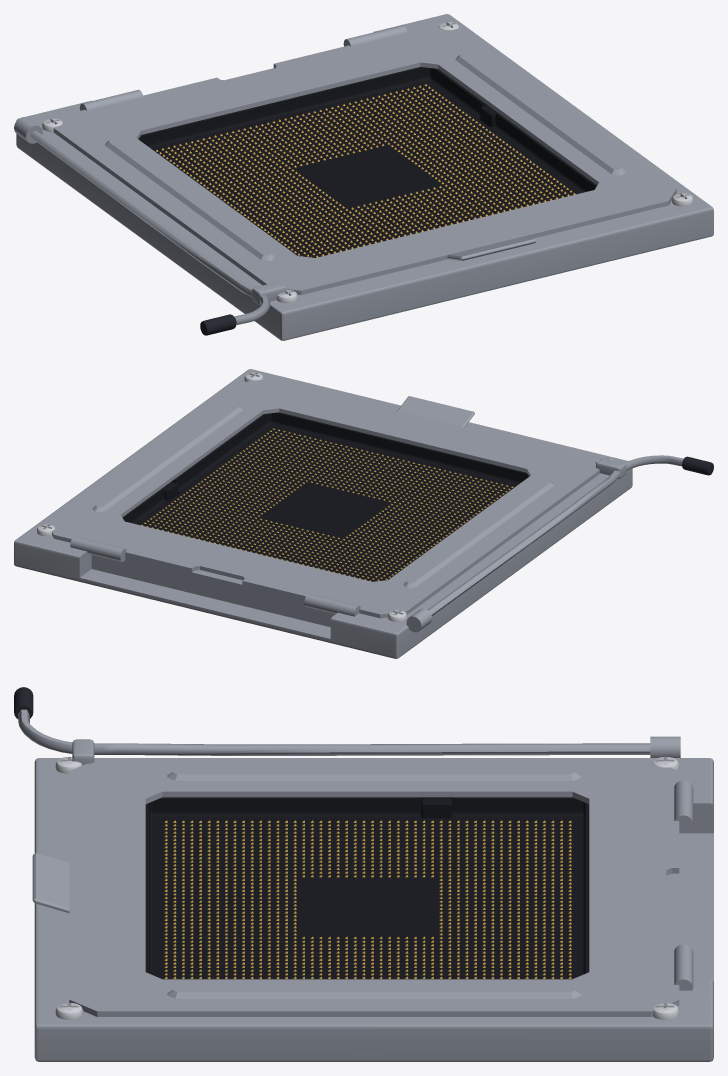
The model's file is CpuSocket.glb.
3 renders of one model, top to bottom at view 1: azimuth 30°, elevation 25°; view 2: azimuth 150°, elevation 25°; view 3: azimuth 270°, elevation 25°, orthographic. The views are drawn at different scales.
Visible parts, largest first — view 1: Retention__Metal__9AA0AC, Body__SmoothPlastic__16181E, Pins__Foil__D4A64A, Screws__Metal__C9CDD4, Grip__SmoothPlastic__22252E; view 2: Retention__Metal__9AA0AC, Body__SmoothPlastic__16181E, Pins__Foil__D4A64A, Screws__Metal__C9CDD4; view 3: Retention__Metal__9AA0AC, Body__SmoothPlastic__16181E, Pins__Foil__D4A64A, Screws__Metal__C9CDD4.
Boxes of the visible parts, x1,y1,x2,y2 form: Retention__Metal__9AA0AC: [14, 14, 713, 340]; Body__SmoothPlastic__16181E: [138, 67, 596, 257]; Pins__Foil__D4A64A: [156, 84, 575, 257]; Screws__Metal__C9CDD4: [42, 22, 693, 303]; Grip__SmoothPlastic__22252E: [200, 314, 236, 335]; Retention__Metal__9AA0AC: [14, 369, 683, 658]; Body__SmoothPlastic__16181E: [122, 412, 528, 581]; Pins__Foil__D4A64A: [141, 428, 513, 581]; Screws__Metal__C9CDD4: [37, 372, 612, 621]; Retention__Metal__9AA0AC: [18, 709, 713, 1061]; Body__SmoothPlastic__16181E: [145, 797, 589, 979]; Pins__Foil__D4A64A: [164, 820, 571, 978]; Screws__Metal__C9CDD4: [55, 756, 679, 1019].
Bounding box in the file's own units: 54.8 × 4.5 × 50.5.
